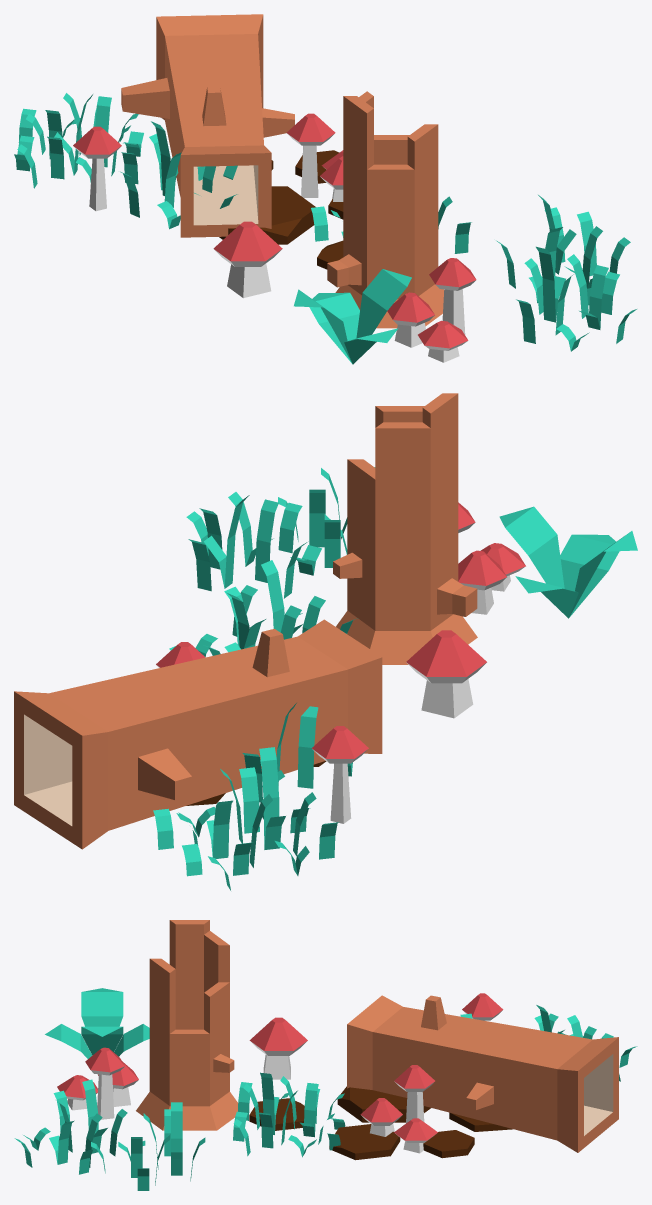
File: Plants 2.fbx
The picture shows the model from 3 angles, top to bottom: view 1: azimuth 30°, elevation 25°; view 2: azimuth 150°, elevation 25°; view 3: azimuth 270°, elevation 25°; orthographic projection. The views are drawn at different scales.
Visible parts, largest first — view 1: log_large, stump_oldTall, grass (×3), mushroom_redGroup (×2), grass_large (×2), plant_bush, path_stoneCorner, mushroom_red, mushroom_redTall; view 2: log_large, stump_oldTall, grass_large (×2), grass (×3), plant_bush, mushroom_red, mushroom_redGroup, mushroom_redTall; view 3: log_large, stump_oldTall, mushroom_redGroup (×2), path_stoneCorner, grass (×2), grass_large (×2), plant_bush, mushroom_red, mushroom_redTall.
Boxes of the visible parts, bbox=[...] form: log_large: bbox=[121, 14, 294, 237]; stump_oldTall: bbox=[327, 91, 444, 328]; grass (×3): bbox=[120, 121, 636, 351]; mushroom_redGroup (×2): bbox=[286, 113, 476, 362]; grass_large (×2): bbox=[14, 93, 471, 253]; plant_bush: bbox=[294, 269, 411, 364]; path_stoneCorner: bbox=[219, 150, 343, 269]; mushroom_red: bbox=[213, 221, 282, 297]; mushroom_redTall: bbox=[73, 126, 121, 211]; log_large: bbox=[14, 619, 382, 849]; stump_oldTall: bbox=[333, 393, 477, 664]; grass_large (×2): bbox=[153, 560, 357, 890]; grass (×3): bbox=[186, 467, 375, 802]; plant_bush: bbox=[499, 506, 637, 618]; mushroom_red: bbox=[406, 630, 486, 718]; mushroom_redGroup: bbox=[458, 502, 525, 614]; mushroom_redTall: bbox=[311, 726, 368, 823]; log_large: bbox=[347, 995, 618, 1152]; stump_oldTall: bbox=[136, 920, 238, 1130]; mushroom_redGroup (×2): bbox=[57, 1047, 437, 1153]; path_stoneCorner: bbox=[249, 1086, 512, 1160]; grass (×2): bbox=[14, 1079, 205, 1190]; grass_large (×2): bbox=[233, 1005, 637, 1157]; plant_bush: bbox=[45, 988, 149, 1058]; mushroom_red: bbox=[249, 1017, 307, 1079]; mushroom_redTall: bbox=[462, 993, 503, 1020].
Bounding box in the file's own units: 12.32 × 6.66 × 21.39.
